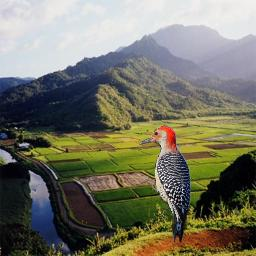Woodpecker: (139, 125, 191, 242)
